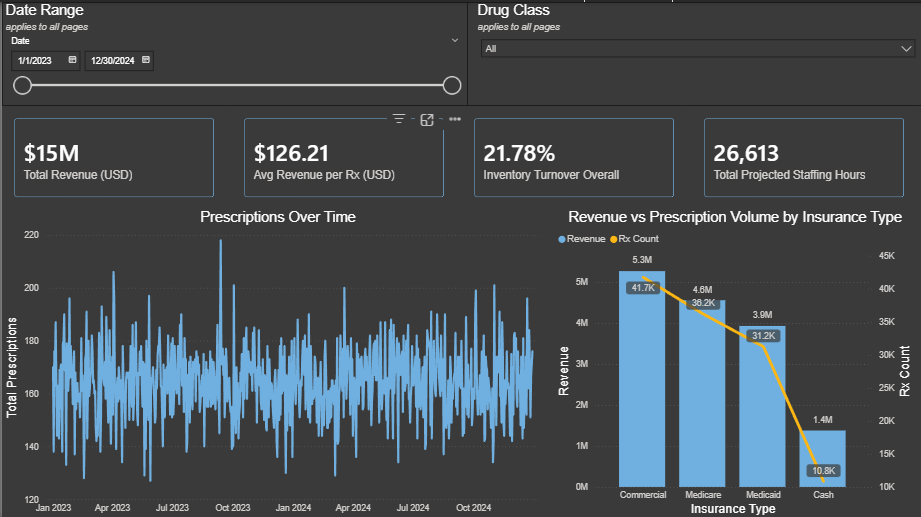

Layout of this report page (visuals, bound fields, positions):
{"tool":"powerbi","page":{"name":"Executive Overview","canvas":[1280,720],"ordinal":0},"visuals":[{"type":"slicer","title":"Drug Class","fields":{"Values":["Dim_DrugClass.pharm_classes"]},"box":[656,0,624,120],"z":0,"group":"g2"},{"type":"cardVisual","title":"Total Revenue","fields":{"Data":["date_table.Total Revenue"]},"box":[0,144,312,144],"z":0,"group":"g1"},{"type":"lineClusteredColumnComboChart","title":"Revenue vs Prescription Volume by Insurance Type","fields":{"Category":["revenue_by_insurance.InsuranceType"],"Y":["date_table.Revenue"],"Y2":["date_table.Rx Count"]},"box":[768,288,504,432],"z":0},{"type":"slicer","title":"Date Range","fields":{"Values":["date_table.Date"]},"box":[0,0,648,144],"z":1000,"group":"g2"},{"type":"cardVisual","title":"Average Overall Inventory Turnover","fields":{"Data":["date_table.Inventory Turnover Overall"]},"box":[640,144,312,144],"z":1000,"group":"g1"},{"type":"lineChart","title":"Prescriptions Over Time","fields":{"Y":["date_table.Total Prescriptions"],"Category":["date_table.Date"]},"box":[0,288,768,432],"z":1000},{"type":"group","id":"g1","title":"Group 1","box":[0,144,1272,144],"z":2000},{"type":"cardVisual","title":"Staffing Hours","fields":{"Data":["date_table.Total Projected Staffing"]},"box":[960,144,312,144],"z":2000,"group":"g1"},{"type":"group","id":"g2","title":"Group 2","box":[0,0,1280,144],"z":3000},{"type":"cardVisual","title":"Average Revenue per Prescription (USD)","fields":{"Data":["date_table.Avg Revenue per Rx"]},"box":[320,144,312,144],"z":3000,"group":"g1"}]}

Visuals, with their boxes in screenshot pixels (x1, y1, x2, y2), scaled from the page's 1280x720 canvas onto the 921x517 screenshot:
"Drug Class" slicer: rect(472, 0, 920, 86)
"Total Revenue" cardVisual: rect(0, 103, 224, 207)
"Revenue vs Prescription Volume by Insurance Type" lineClusteredColumnComboChart: rect(553, 207, 915, 516)
"Date Range" slicer: rect(0, 0, 466, 103)
"Average Overall Inventory Turnover" cardVisual: rect(460, 103, 685, 207)
"Prescriptions Over Time" lineChart: rect(0, 207, 553, 516)
"Group 1" group: rect(0, 103, 915, 207)
"Staffing Hours" cardVisual: rect(691, 103, 915, 207)
"Group 2" group: rect(0, 0, 920, 103)
"Average Revenue per Prescription (USD)" cardVisual: rect(230, 103, 455, 207)
